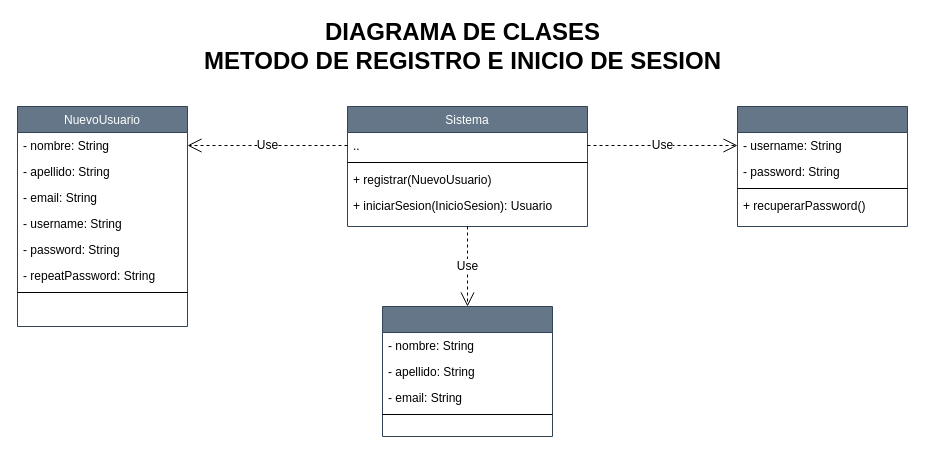
Some shapes in this 925 by 454 pixel diagram are drawn without their labels. Each missing label, with the box of its shape:
InicioSesion: (736, 106, 908, 226)
Usuario: (382, 306, 552, 436)
